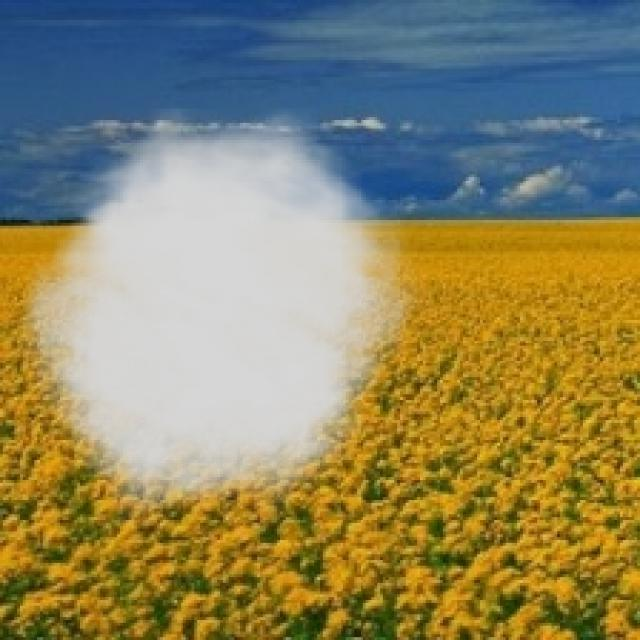smoke: (6, 109, 428, 528)
